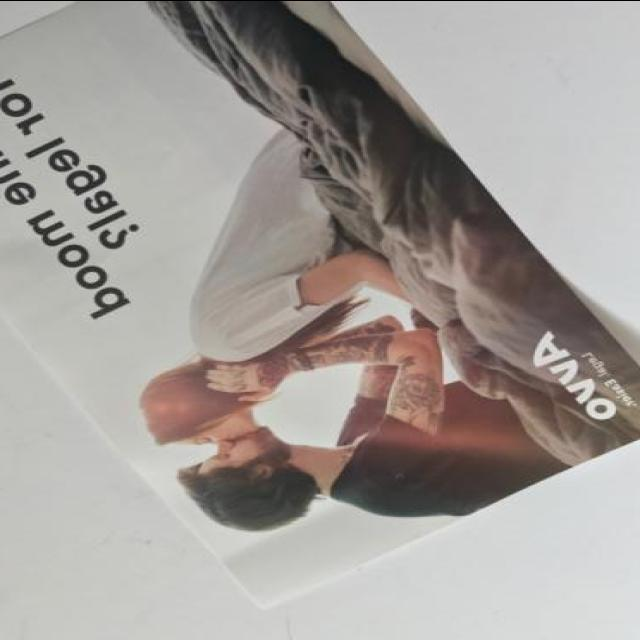kertas: (0, 0, 640, 614)
